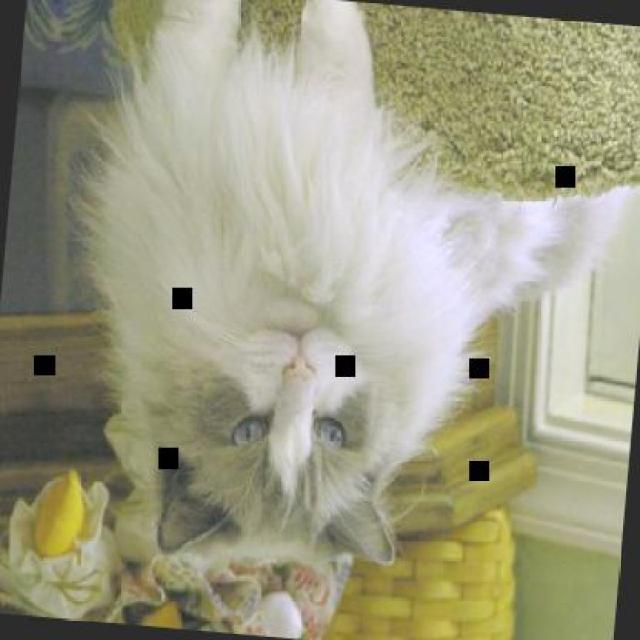cat: (67, 0, 630, 595)
